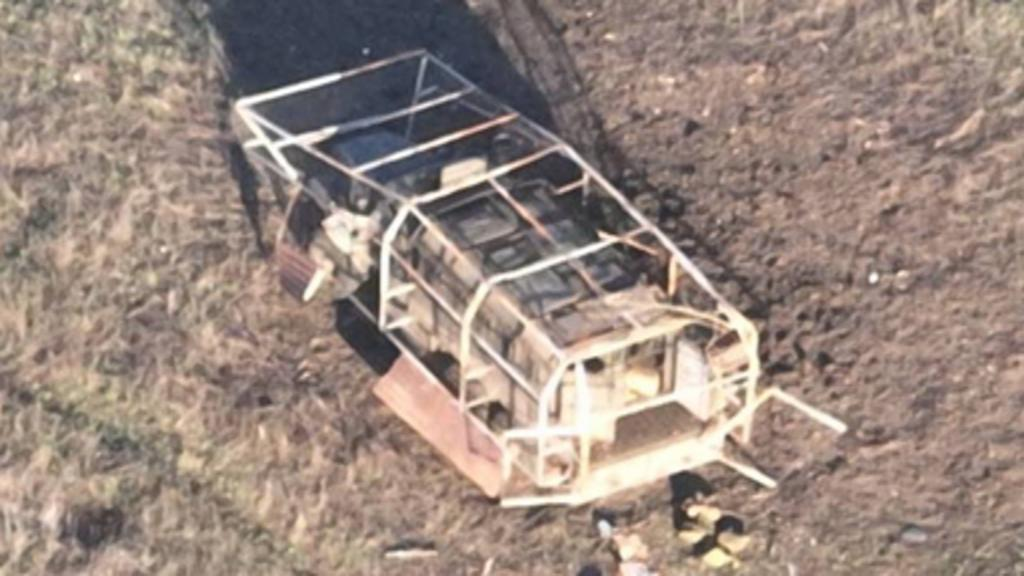TRUCK: (220, 40, 772, 510)
